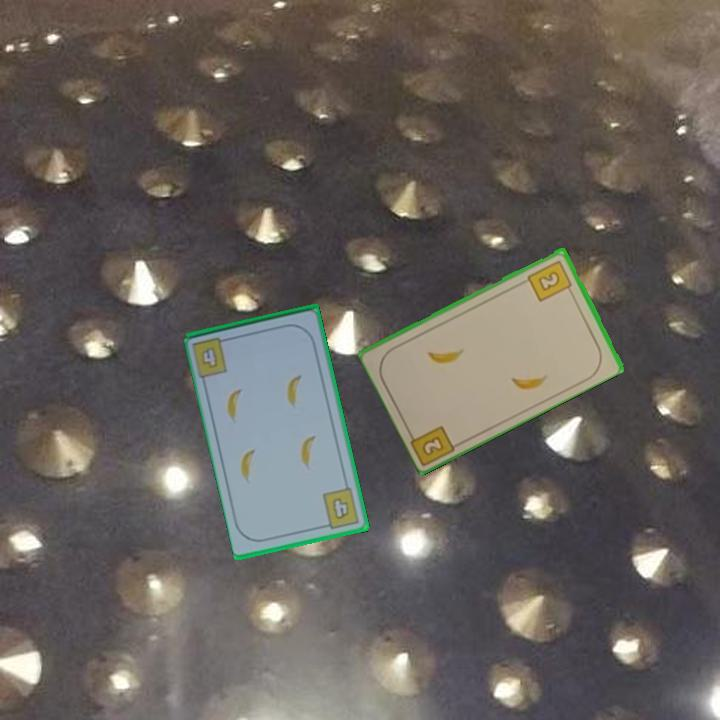2b: (524, 256, 575, 304), (418, 432, 447, 459)
4b: (319, 484, 363, 532), (200, 346, 219, 369)
